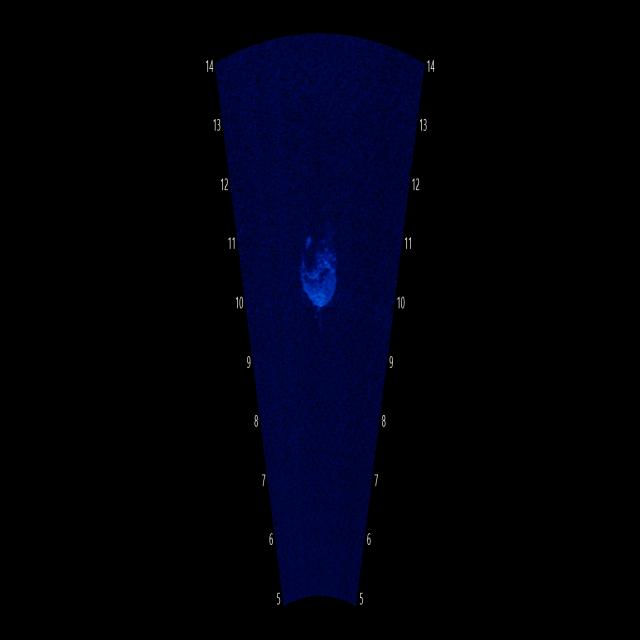circle: (292, 208, 344, 318)
